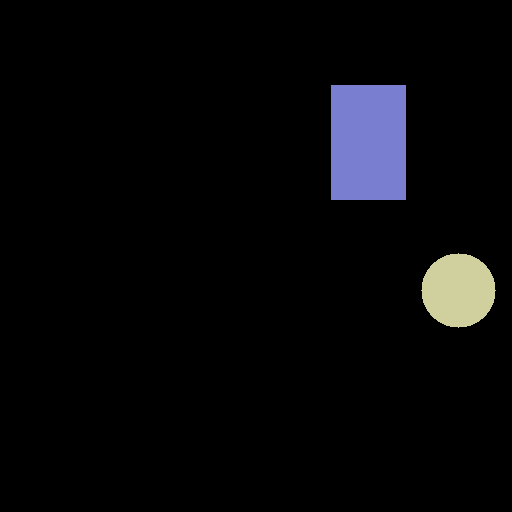circle: (421, 253, 495, 327)
rectangle: (331, 85, 405, 199)
